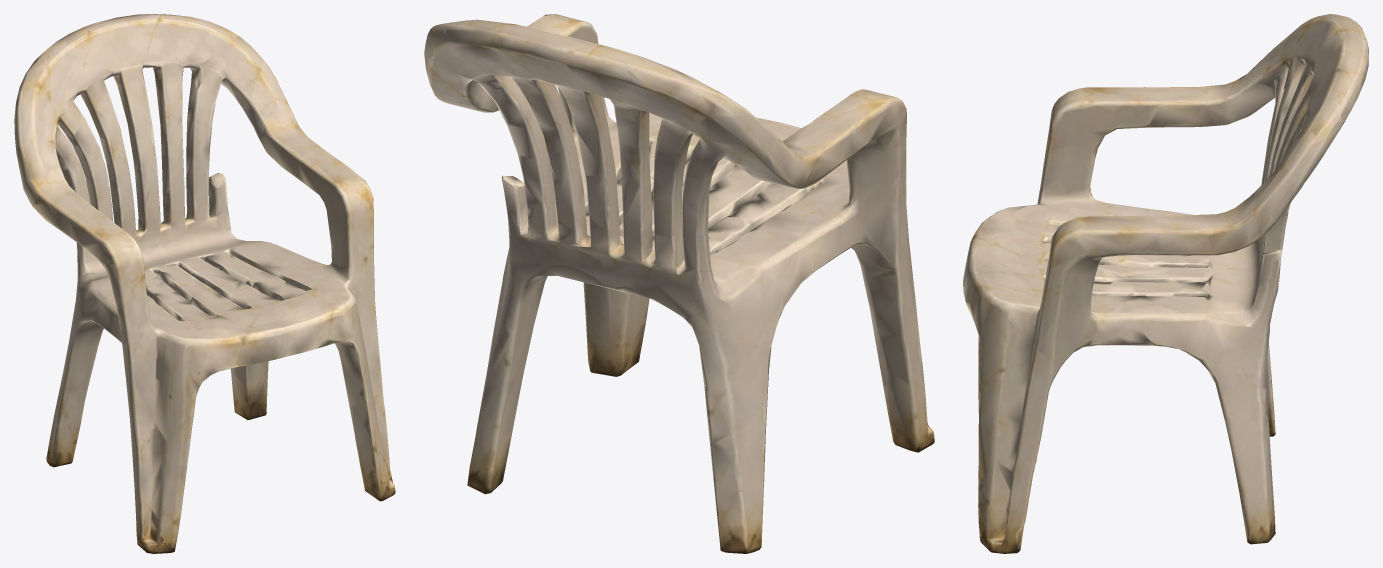
The model's file is d_monobloc.glb.
3 views of the same model, side by side, from view 1: azimuth 30°, elevation 25°; view 2: azimuth 150°, elevation 25°; view 3: azimuth 270°, elevation 25° (orthographic). The views are drawn at different scales.
Bounding box in the file's own units: 1.36 × 1.9 × 1.58.
1 material, 1 textured.
